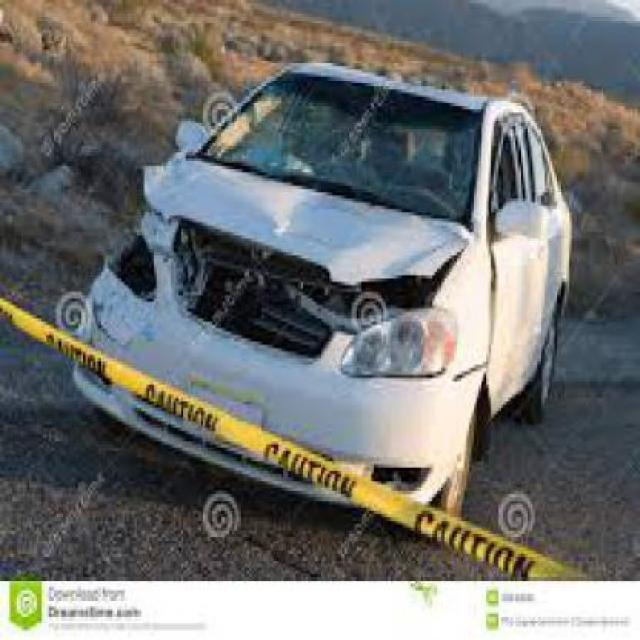damaged-hood: (141, 154, 464, 294)
